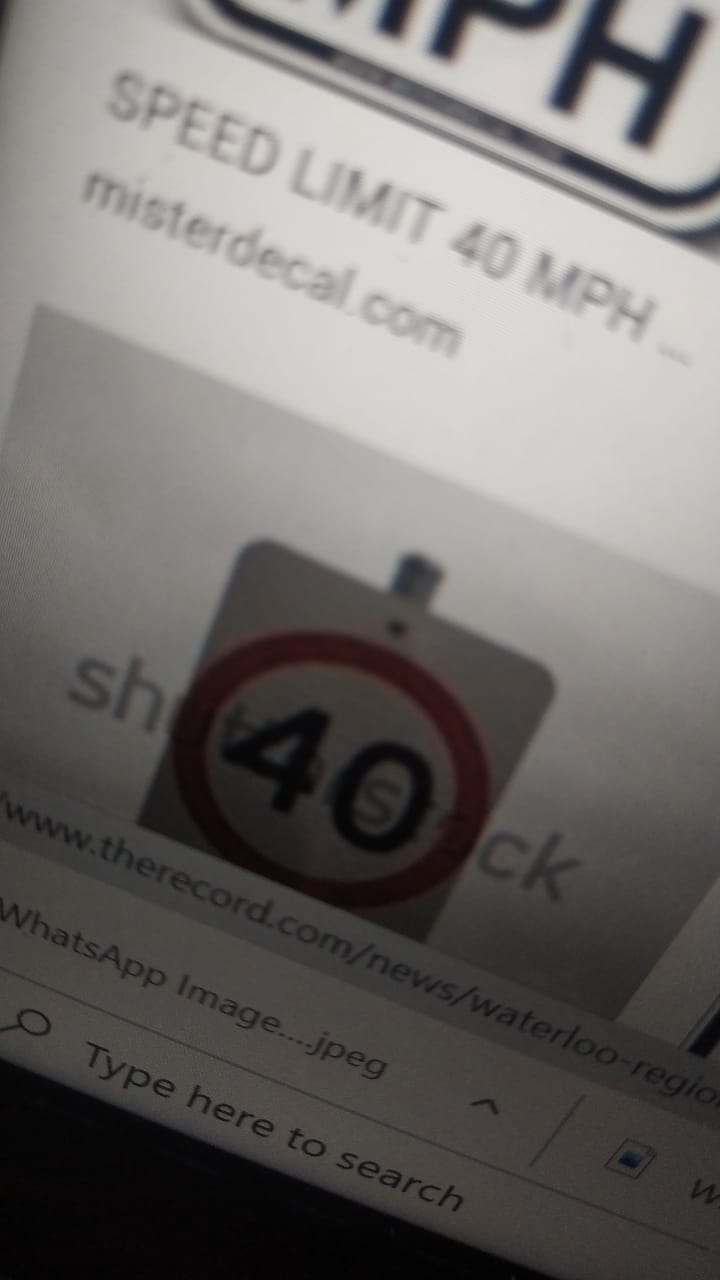SPEED LIMIT (40 KM/H): (135, 515, 532, 958)
